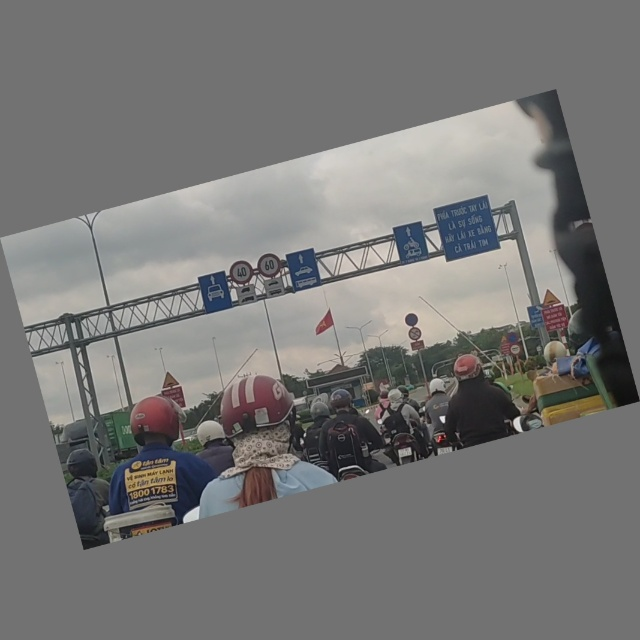Camera: (526, 303, 548, 331)
P.111: (407, 327, 422, 342)
P.127*40: (226, 258, 256, 288)
P.127*60: (255, 252, 284, 281)
P.129: (509, 343, 523, 357)
P.130: (404, 312, 420, 329)
P.131a: (506, 332, 520, 345)
W.221b: (539, 288, 560, 308), (159, 370, 180, 390), (498, 334, 508, 344)
